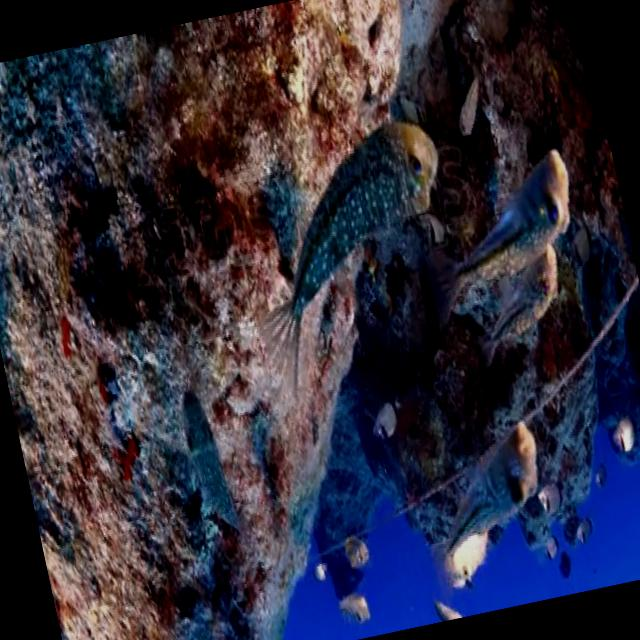Balon Baligi: (217, 105, 483, 408), (411, 144, 591, 322), (500, 416, 552, 509), (331, 587, 376, 640)
